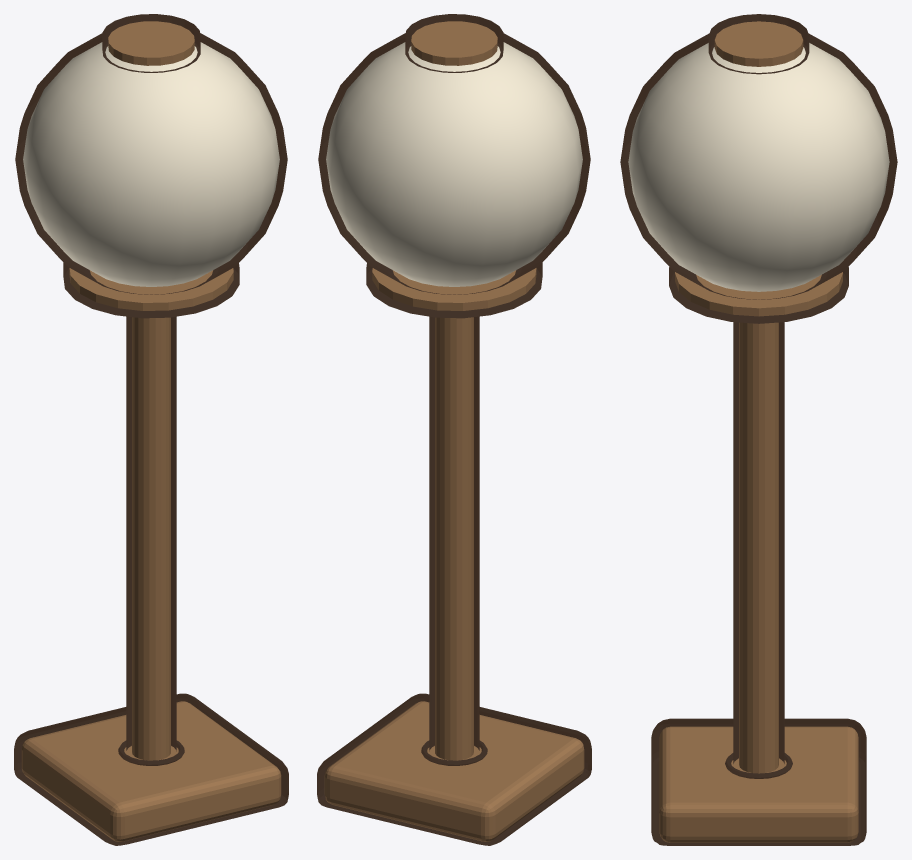
File: teahouse-lamp.glb
3 views of the same model, side by side, from view 1: azimuth 30°, elevation 25°; view 2: azimuth 150°, elevation 25°; view 3: azimuth 270°, elevation 25° (orthographic).
Visible parts, largest first — view 1: teahouse-lamp, teahouse-lamp-outline; view 2: teahouse-lamp, teahouse-lamp-outline; view 3: teahouse-lamp, teahouse-lamp-outline.
Part boxes in pixels (left/top/right/bottom): teahouse-lamp: left=21, top=21, right=281, bottom=841; teahouse-lamp-outline: left=14, top=14, right=288, bottom=845; teahouse-lamp: left=324, top=21, right=584, bottom=841; teahouse-lamp-outline: left=317, top=14, right=591, bottom=845; teahouse-lamp: left=628, top=21, right=889, bottom=842; teahouse-lamp-outline: left=620, top=14, right=897, bottom=845.
Size of the model in its own units: 0.626 by 1.92 by 0.626.
